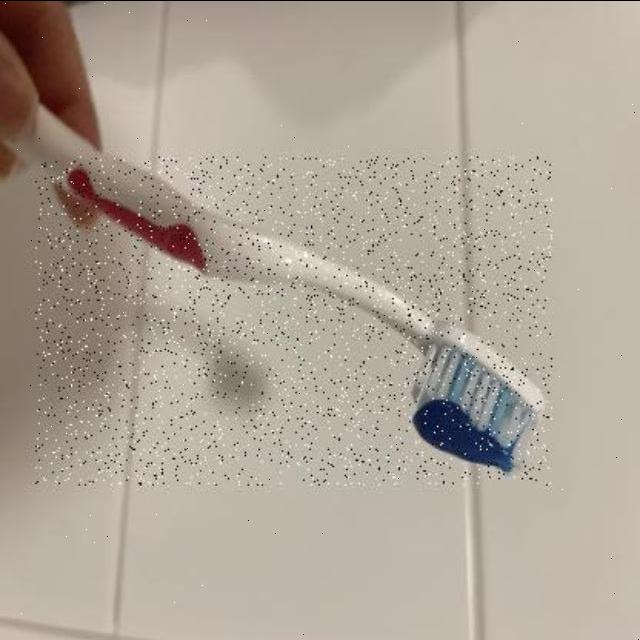toothbrush: (36, 157, 552, 486)
